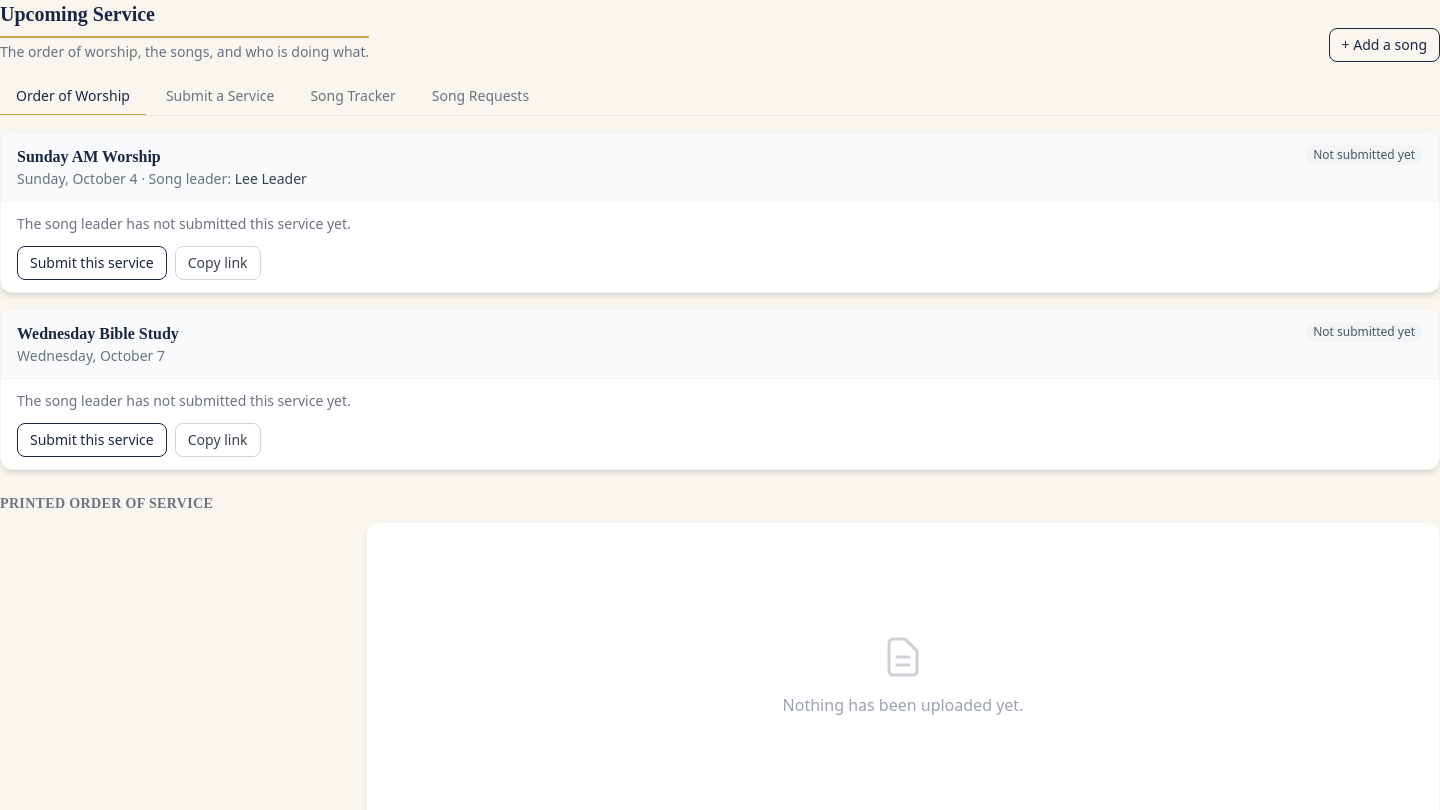
Order of Worship › "Submit this service" opens it on the Submit tab
Click the button "Submit this service" below "Wednesday, October 7" at (92, 440), box 17,423 -> 167,457
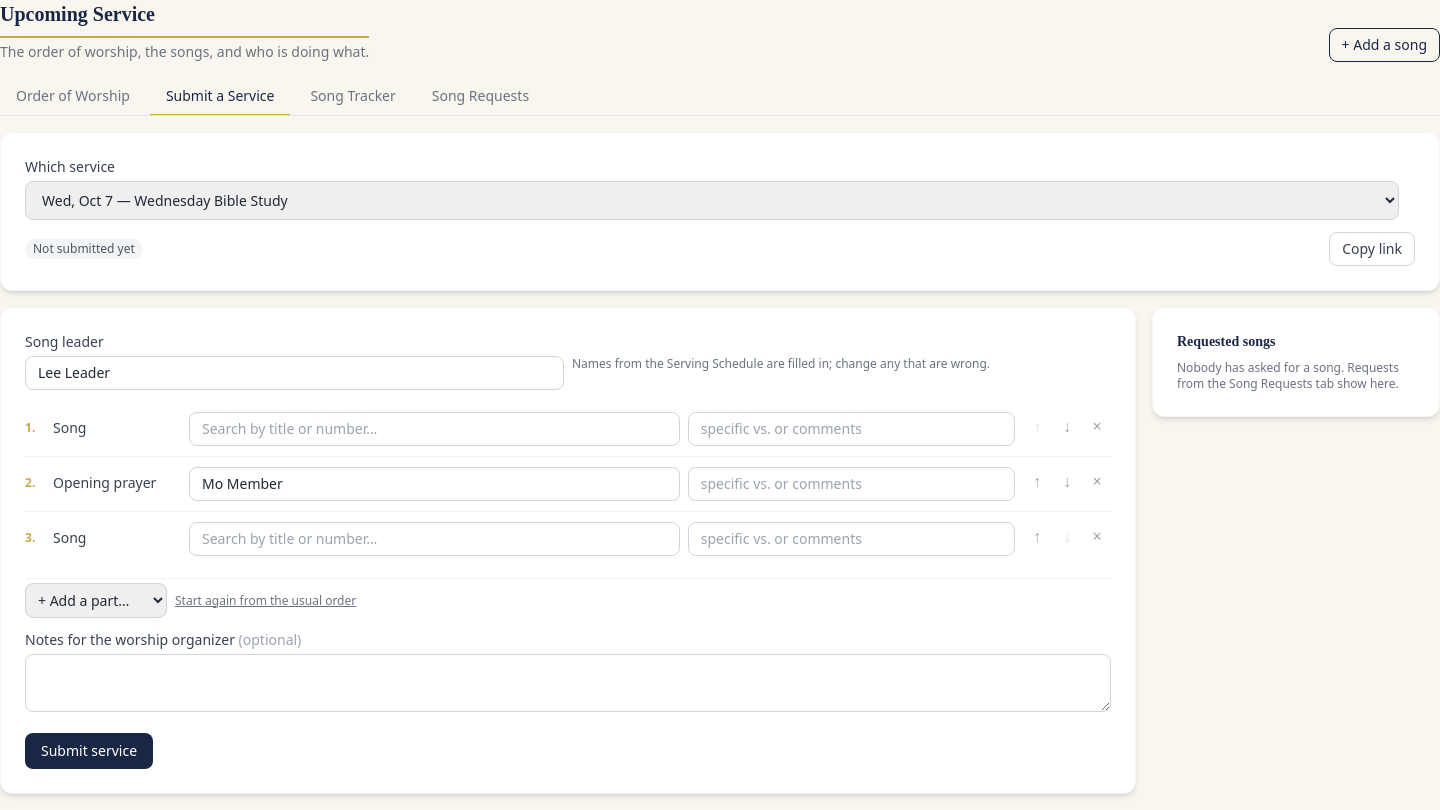
Expected: the tab "Submit a Service" is shown, 150,78 -> 290,116
Now the dropdown labelled "Which service" shows "Wed, Oct 7 — Wednesday Bible Study", box 25,181 -> 1399,220
